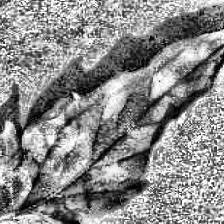leaf mold: (0, 19, 224, 224)
